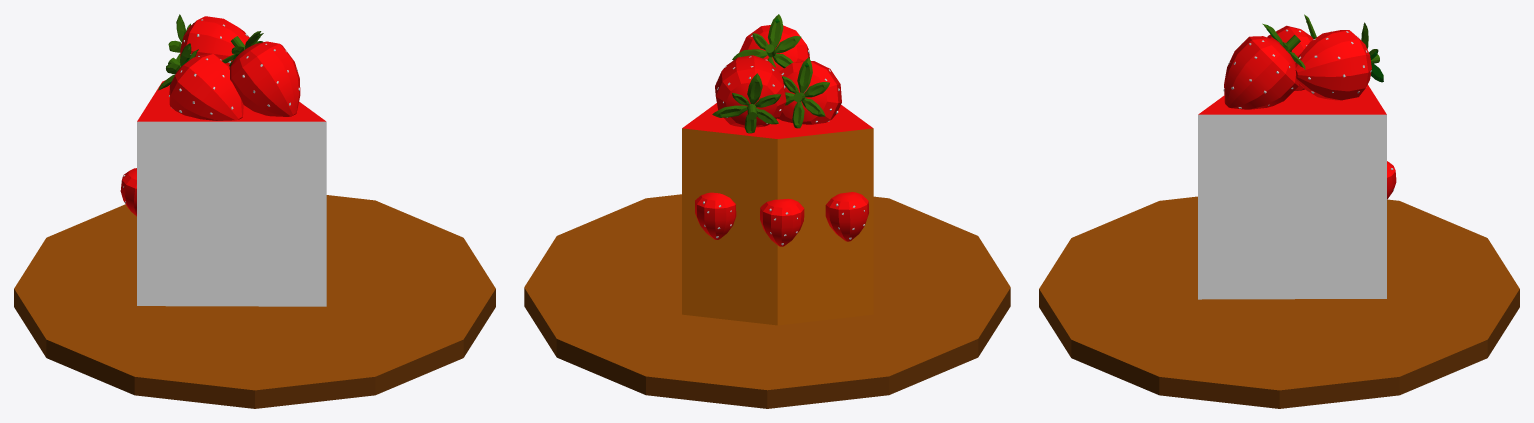
File: pastel.glb
The picture shows the model from 3 angles, left to right: view 1: azimuth 30°, elevation 25°; view 2: azimuth 150°, elevation 25°; view 3: azimuth 270°, elevation 25°; orthographic projection.
Visible parts, largest first — view 1: skp1315; view 2: skp1315; view 3: skp1315.
Boxes of the visible parts, x1,y1,x2,y2 form: skp1315: (14, 14, 495, 408); skp1315: (524, 14, 1010, 408); skp1315: (1039, 14, 1519, 408).
Bounding box in the file's own units: 0.94 × 0.6099 × 0.94.
